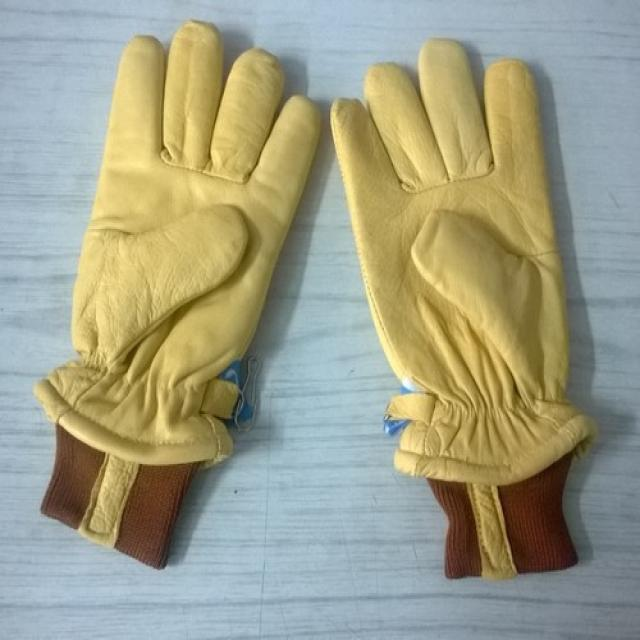gloves: (33, 18, 314, 570), (330, 41, 594, 581)
